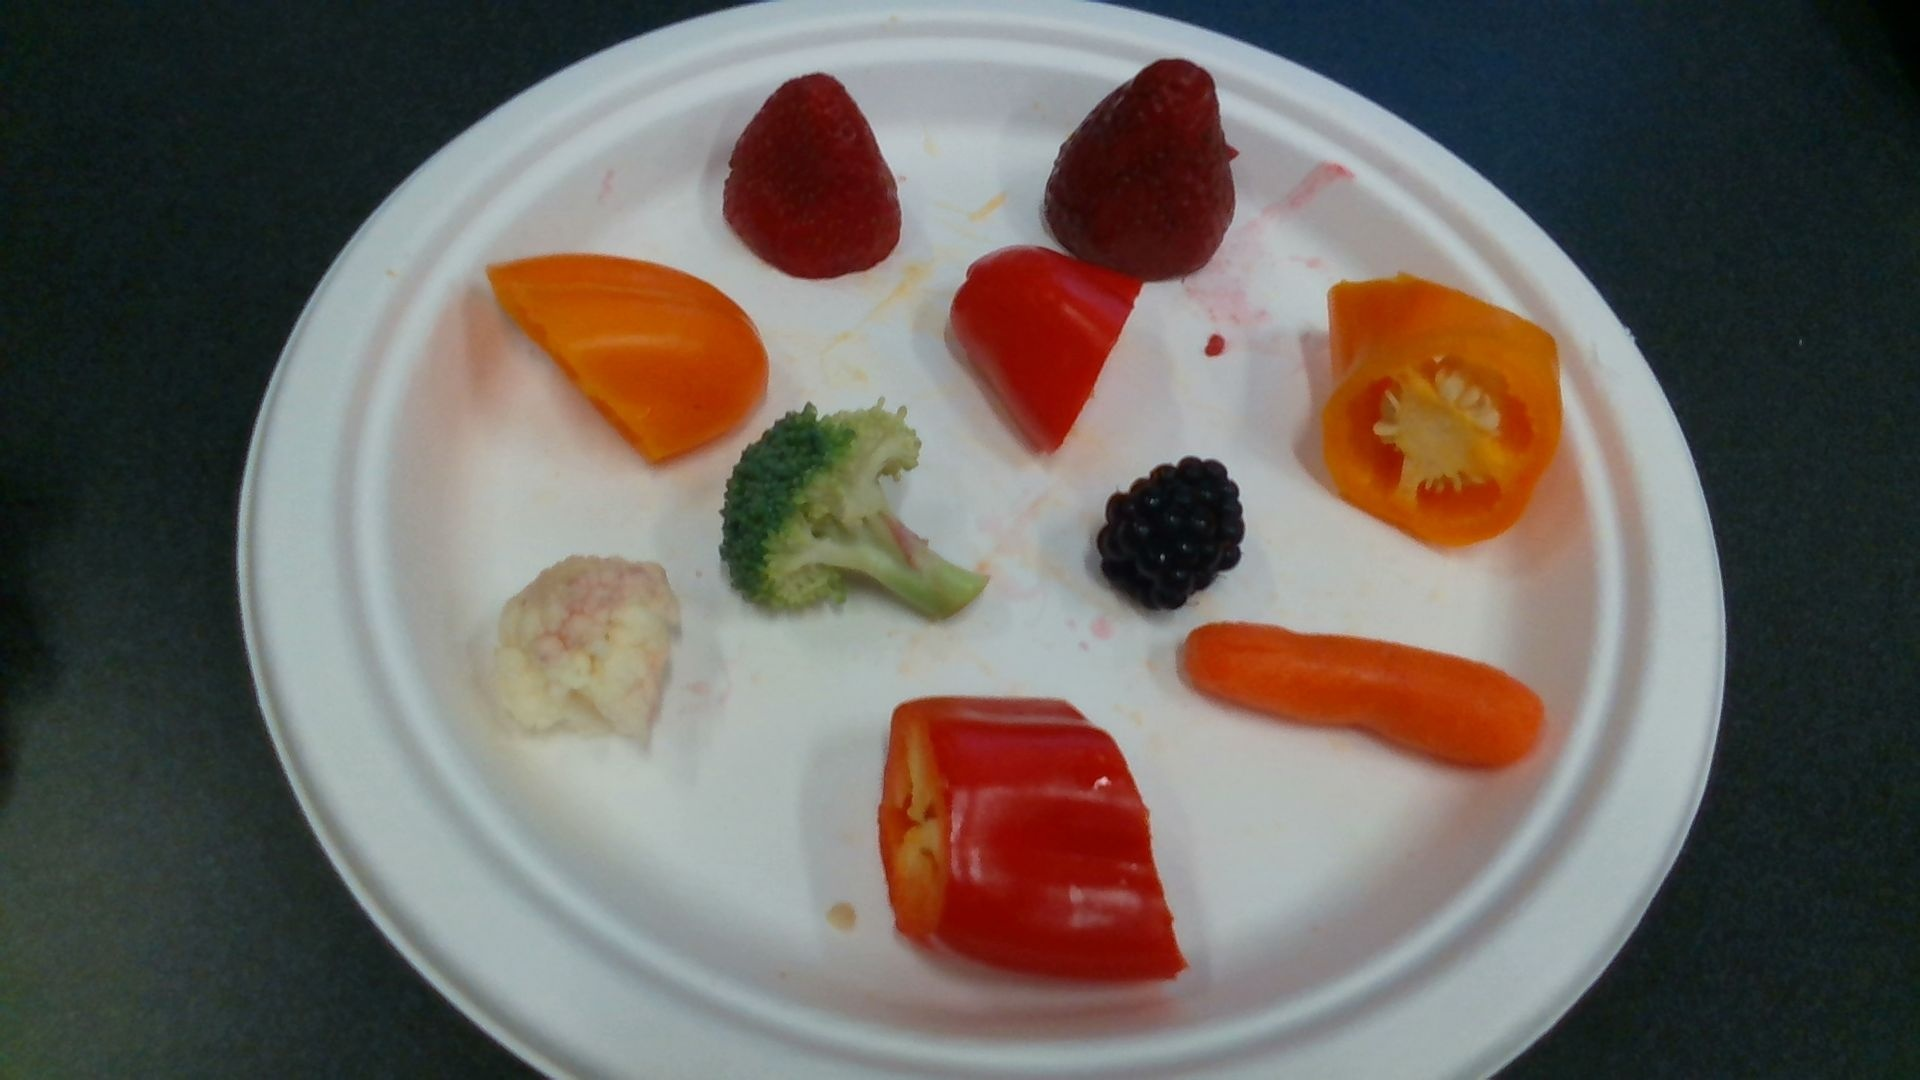bell_pepper: (885, 696, 1179, 982), (1324, 276, 1563, 556), (492, 258, 769, 460), (953, 251, 1139, 451)
blackberry: (1104, 460, 1245, 611)
broccoli: (729, 407, 985, 622)
carrot: (1184, 620, 1549, 775)
cauliflower: (491, 555, 679, 746)
strawberry: (1047, 61, 1236, 278), (727, 78, 899, 276)
